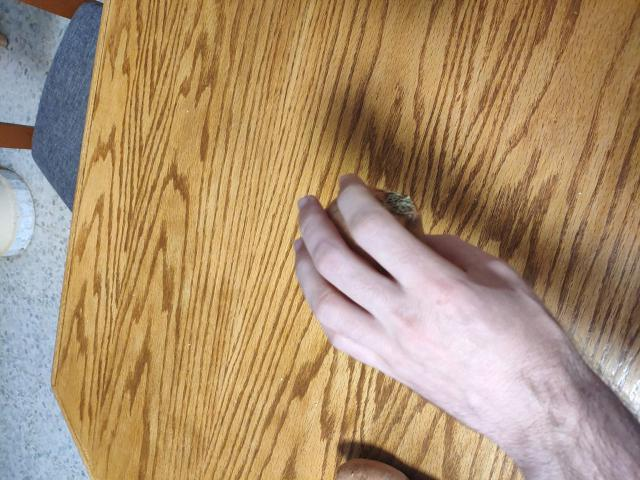onion: (317, 190, 426, 291)
